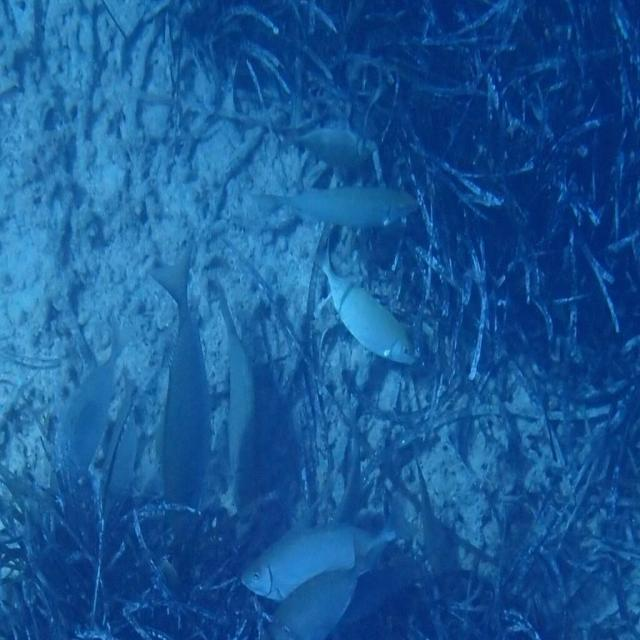Sokar Baligi: (302, 228, 423, 389), (240, 166, 441, 239)
